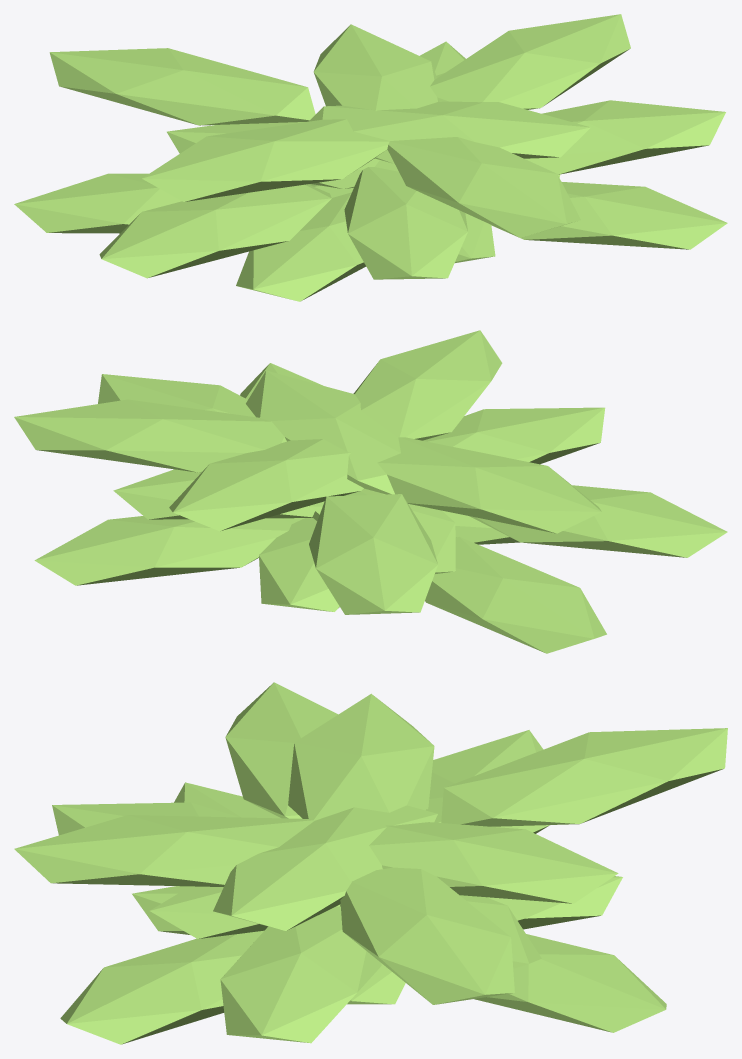
File: FTF_Ingredient_Chopped_Lettuce.glb
3 views of the same model, one above another, from view 1: azimuth 30°, elevation 25°; view 2: azimuth 150°, elevation 25°; view 3: azimuth 270°, elevation 25° (orthographic). The views are drawn at different scales.
Visible parts, largest first — view 1: Lettuce_Strip_00; view 2: Lettuce_Strip_00; view 3: Lettuce_Strip_00.
Boxes of the visible parts, box(x1,y1,x2,y2) form: Lettuce_Strip_00: box(14, 14, 727, 301); Lettuce_Strip_00: box(14, 330, 727, 653); Lettuce_Strip_00: box(14, 682, 727, 1044).
Size of the model in its own units: 0.8602 by 0.124 by 0.7348.
